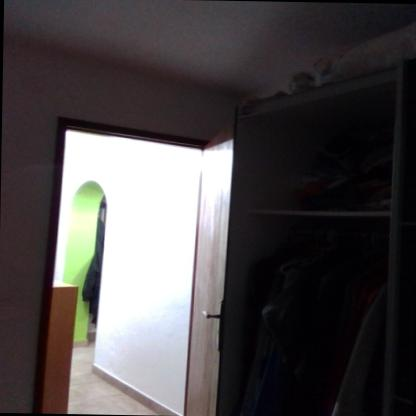open: (32, 113, 242, 416)
